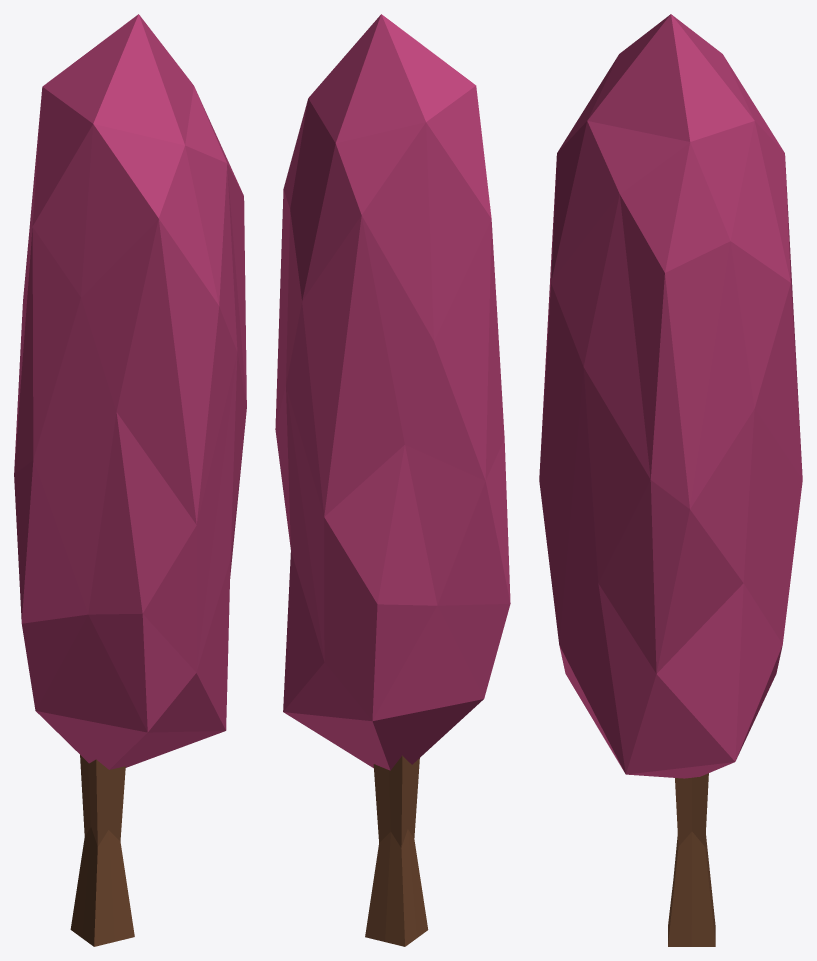
Rendered from Tree_50_Pink.fbx.
The picture shows the model from 3 angles, left to right: view 1: azimuth 30°, elevation 25°; view 2: azimuth 150°, elevation 25°; view 3: azimuth 270°, elevation 25°; orthographic projection. The views are drawn at different scales.
Parts seen in each view (by area): view 1: Tree_50_Pink_Part_1, Tree_50_Pink_Part_2; view 2: Tree_50_Pink_Part_1, Tree_50_Pink_Part_2; view 3: Tree_50_Pink_Part_1, Tree_50_Pink_Part_2.
Boxes of the visible parts, x1,y1,x2,y2 form: Tree_50_Pink_Part_1: (14, 14, 246, 769); Tree_50_Pink_Part_2: (70, 755, 134, 946); Tree_50_Pink_Part_1: (275, 14, 510, 770); Tree_50_Pink_Part_2: (365, 755, 428, 946); Tree_50_Pink_Part_1: (539, 14, 802, 778); Tree_50_Pink_Part_2: (668, 773, 715, 946).
Size of the model in its own units: 208 by 810 by 207.
